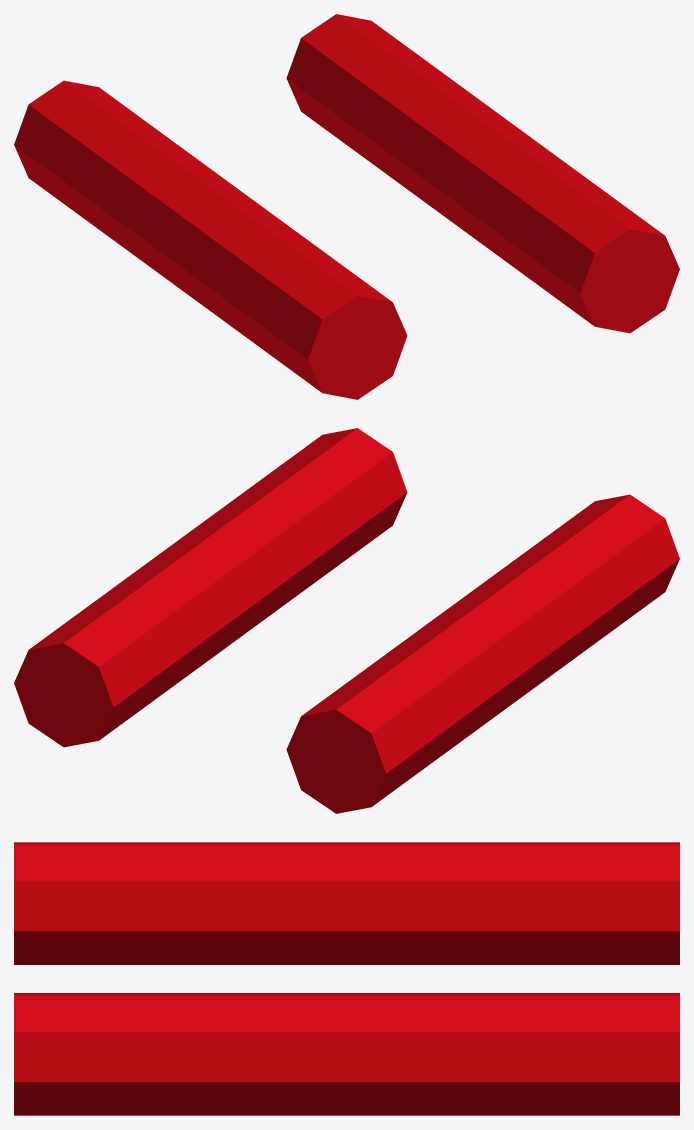
File: Lazer.fbx
The picture shows the model from 3 angles, top to bottom: view 1: azimuth 30°, elevation 25°; view 2: azimuth 150°, elevation 25°; view 3: azimuth 270°, elevation 25°; orthographic projection. The views are drawn at different scales.
Visible parts, largest first — view 1: Lazer; view 2: Lazer; view 3: Lazer.
Part boxes in pixels (<box>): Lazer: <box>14,14,679,399</box>; Lazer: <box>14,428,679,813</box>; Lazer: <box>14,842,679,1115</box>.
Size of the model in its own units: 336 by 90 by 460.
